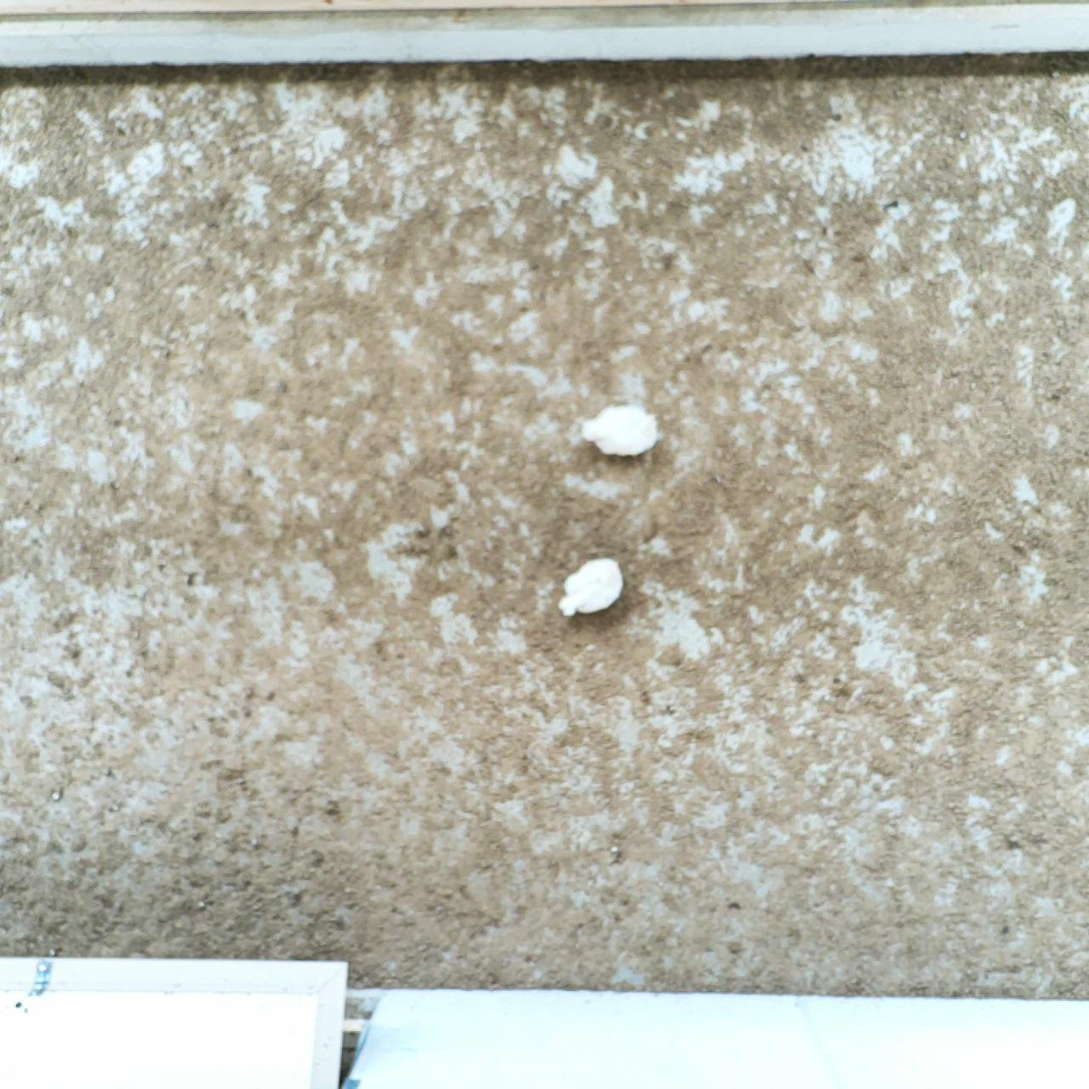chicken: (581, 396, 665, 461), (554, 554, 624, 626)
